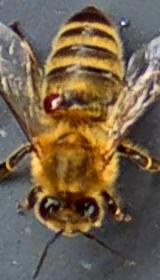varroa_mite: (32, 78, 74, 117)
